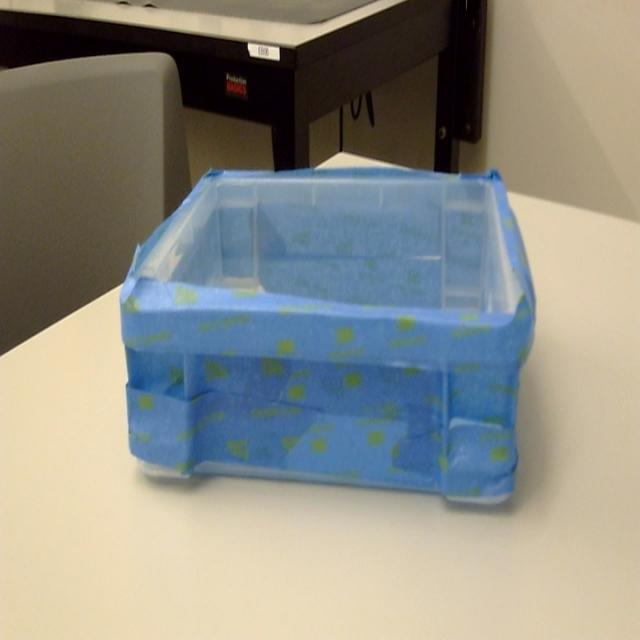bucket: (119, 161, 539, 516)
